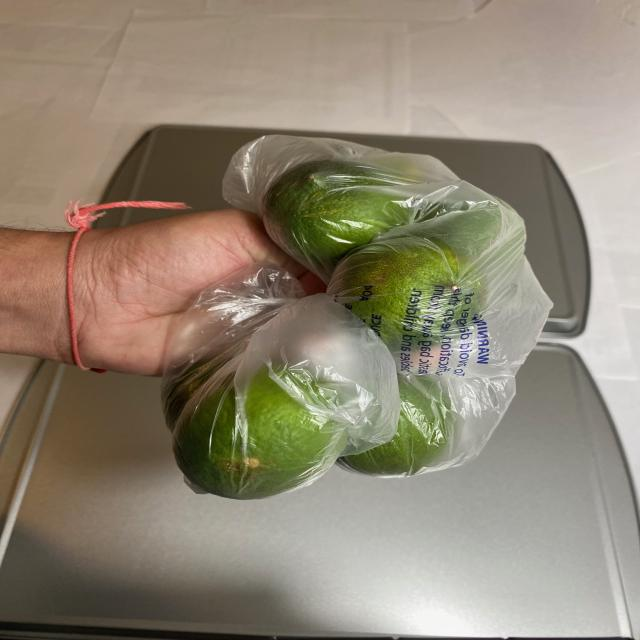lemon: (155, 157, 529, 503)
